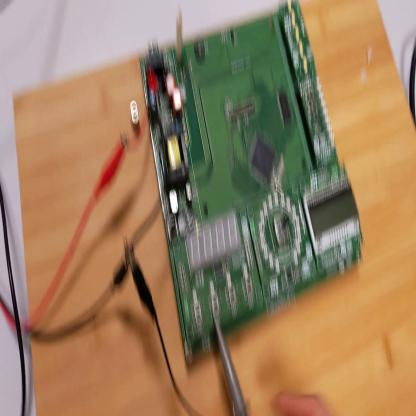hand: (271, 392, 330, 416)
low voltage board: (122, 2, 365, 357)
oscilloscope probe tip: (212, 299, 256, 416)
working area: (14, 1, 416, 415)
